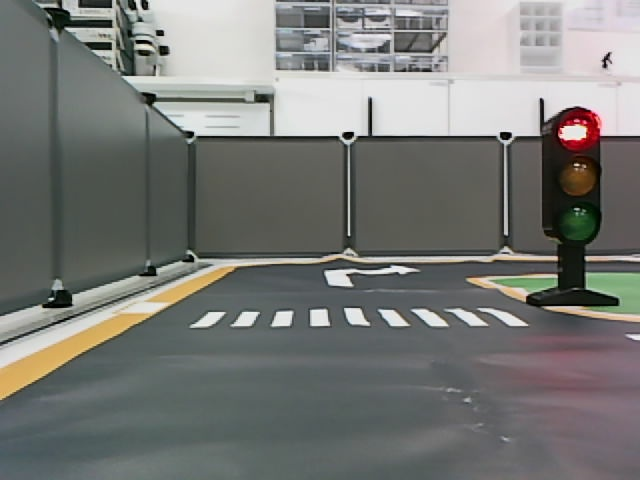crosswalk: (186, 305, 531, 332)
red: (557, 108, 601, 153)
